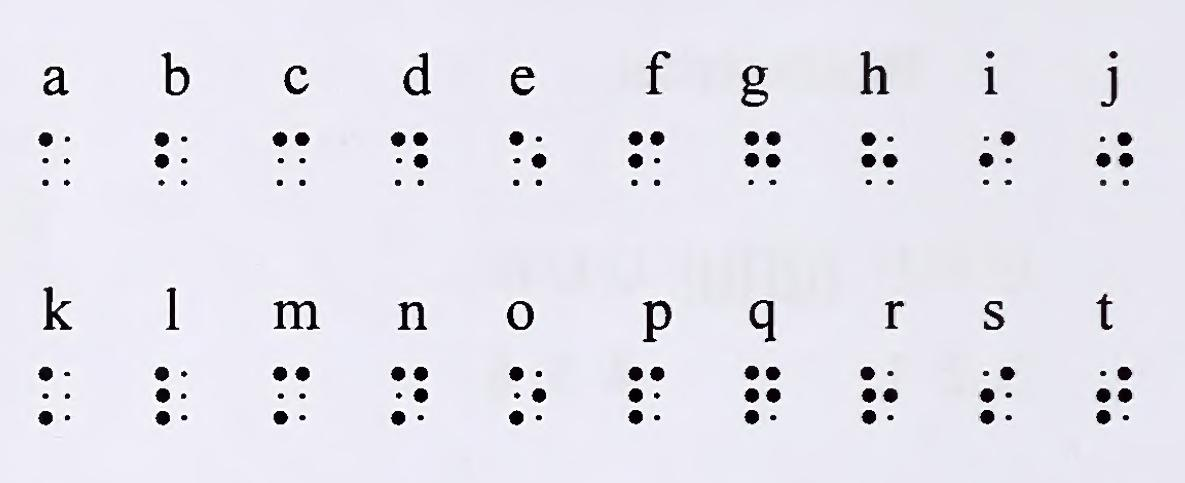a: (38, 130, 73, 190)
b: (154, 130, 190, 190)
c: (270, 130, 311, 190)
d: (390, 130, 428, 190)
e: (509, 130, 547, 188)
f: (629, 132, 666, 187)
g: (745, 129, 782, 190)
h: (860, 130, 899, 191)
i: (977, 129, 1017, 189)
j: (1096, 130, 1134, 190)
k: (39, 365, 73, 427)
l: (154, 366, 190, 427)
m: (273, 366, 312, 426)
n: (392, 365, 429, 426)
o: (508, 365, 547, 427)
p: (629, 365, 664, 427)
q: (745, 362, 781, 426)
r: (860, 364, 899, 427)
s: (980, 365, 1016, 426)
t: (1094, 366, 1135, 425)
